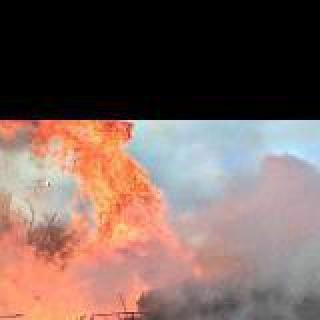fire: (0, 120, 182, 320), (124, 152, 318, 320)
